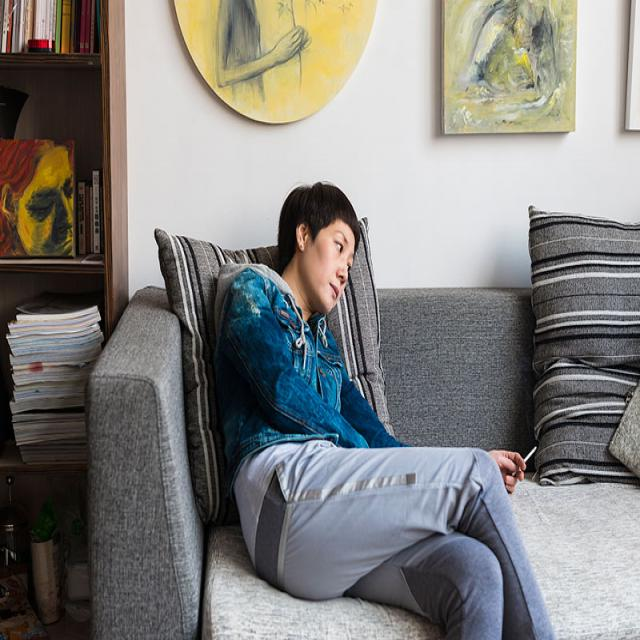smoking: (512, 440, 537, 478)
